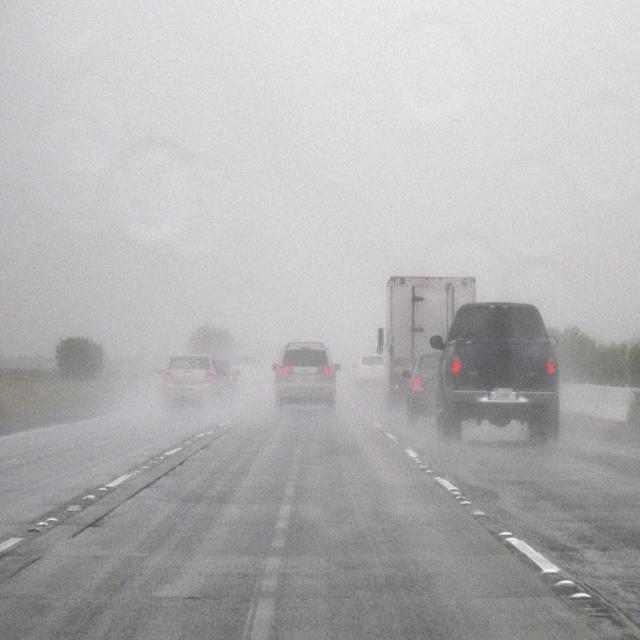Car: (431, 299, 562, 441), (271, 339, 343, 411), (160, 354, 218, 408)
Truck: (381, 275, 481, 407)
